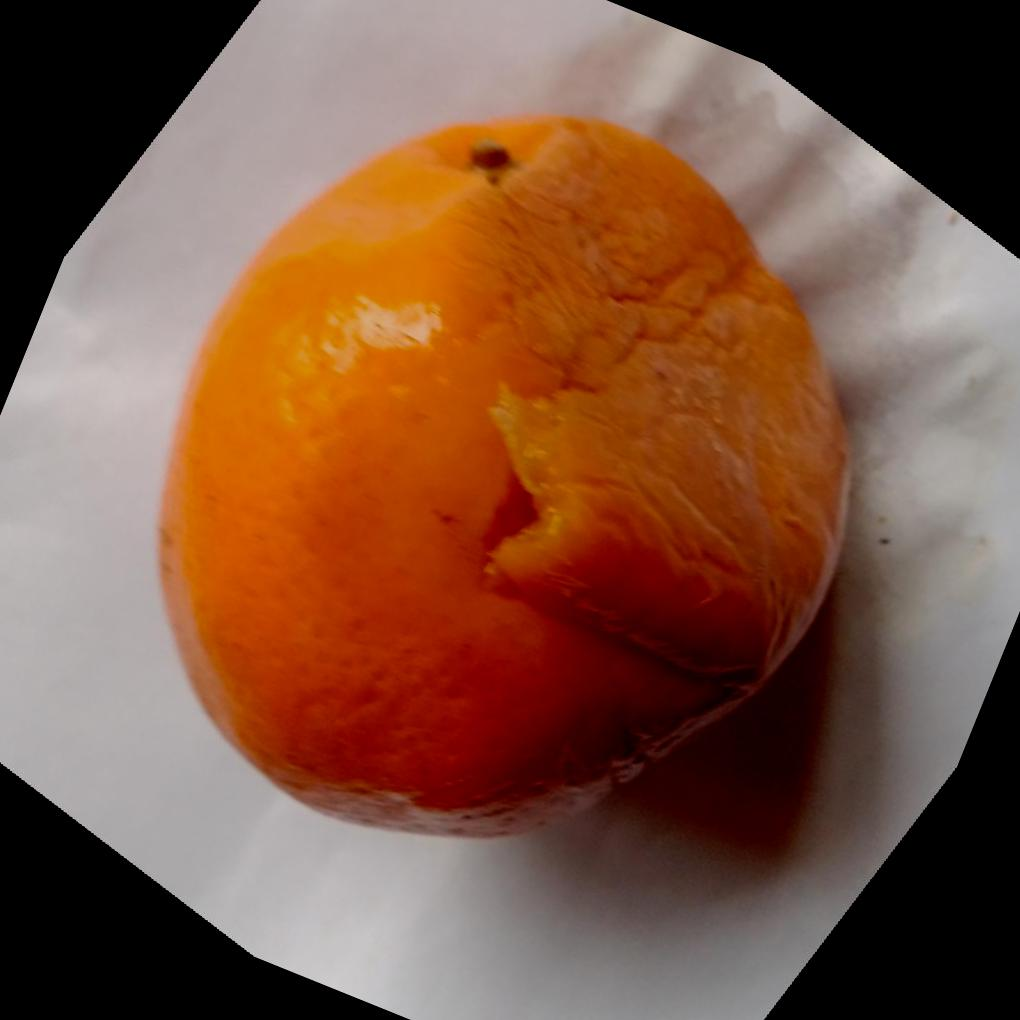FreshOrange: (156, 107, 855, 838)
